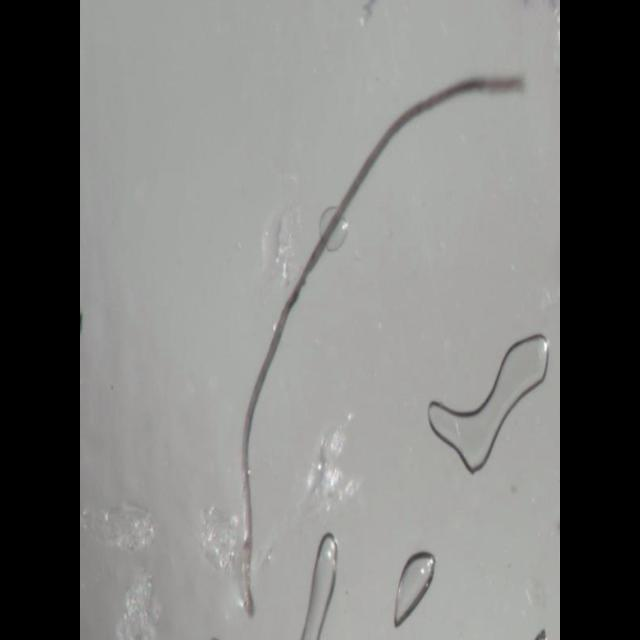Fibre: (237, 75, 528, 621)
